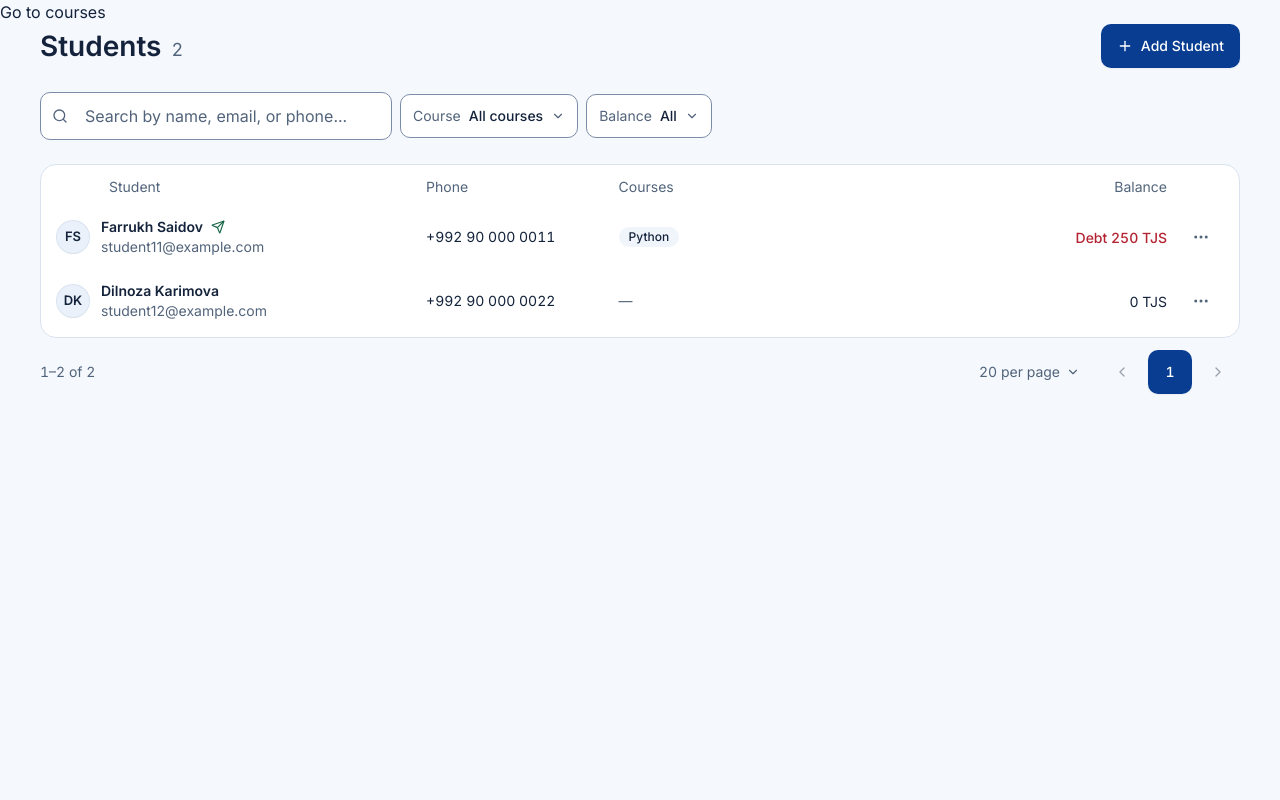
Test: Students page › shows account delete error without claiming withdrawals when student has no active enrollments
Step 1. Click the button named "Student actions: Farrukh Saidov" → click(1201, 237), box [1179,215,1223,259]
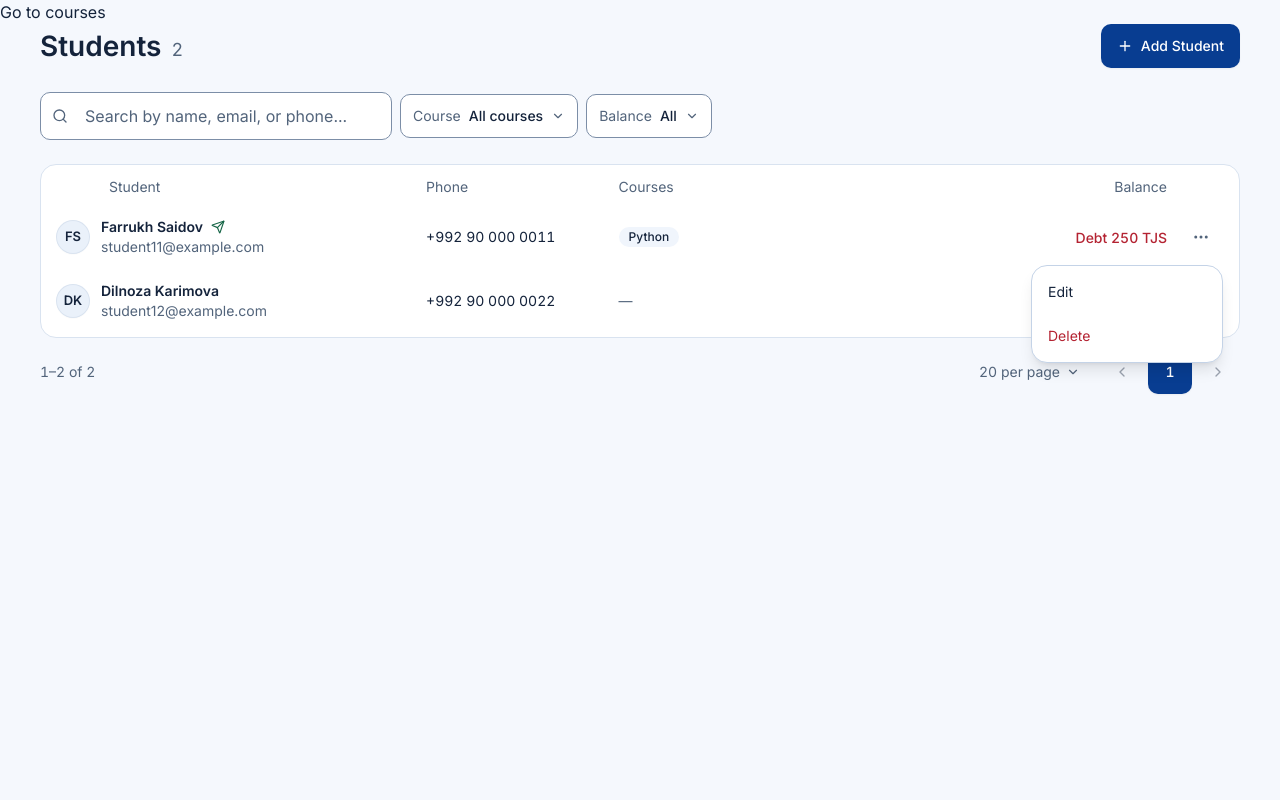
Step 2. Click the menu item "Delete" → click(1069, 336), box [1048,327,1090,344]
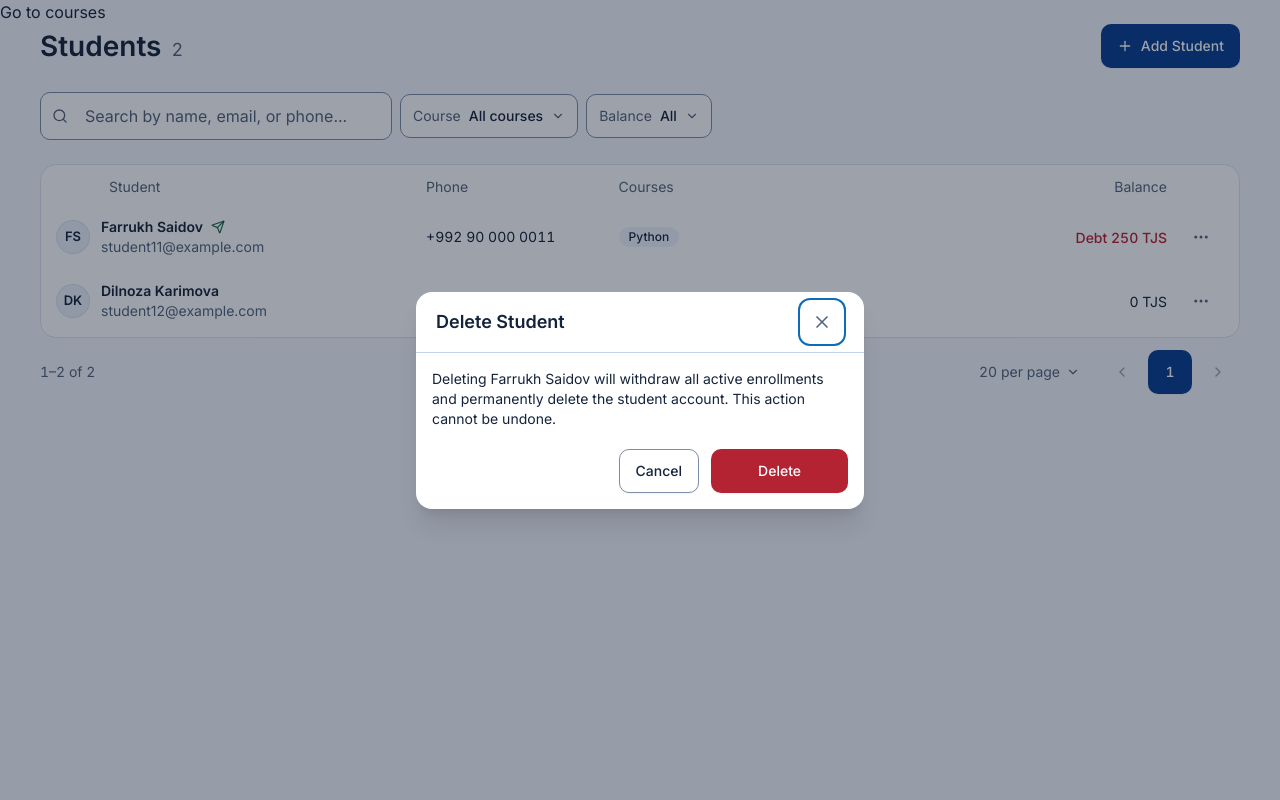
Step 3. Click the button "Delete" → click(780, 470), box [711,448,848,492]
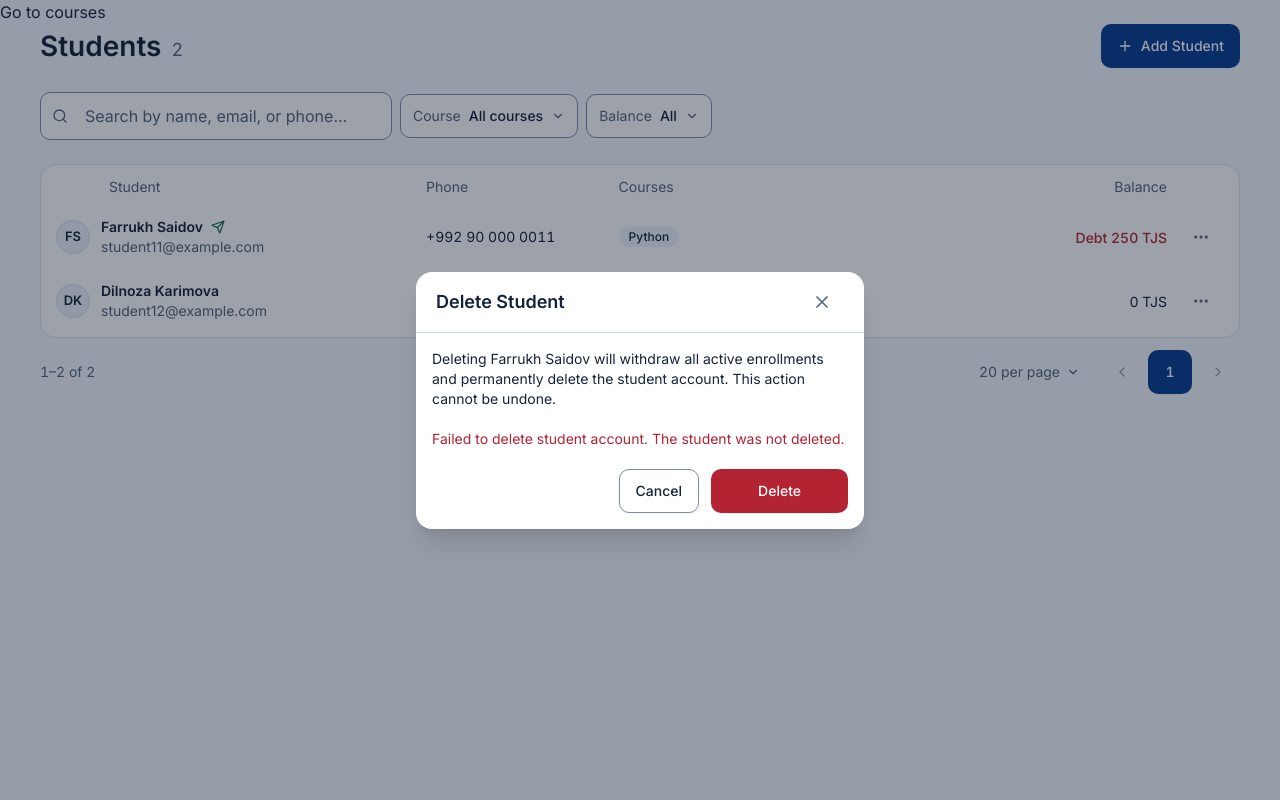
Now the text "Failed to delete student account. The student was not deleted." is shown, box [432,428,848,448]
